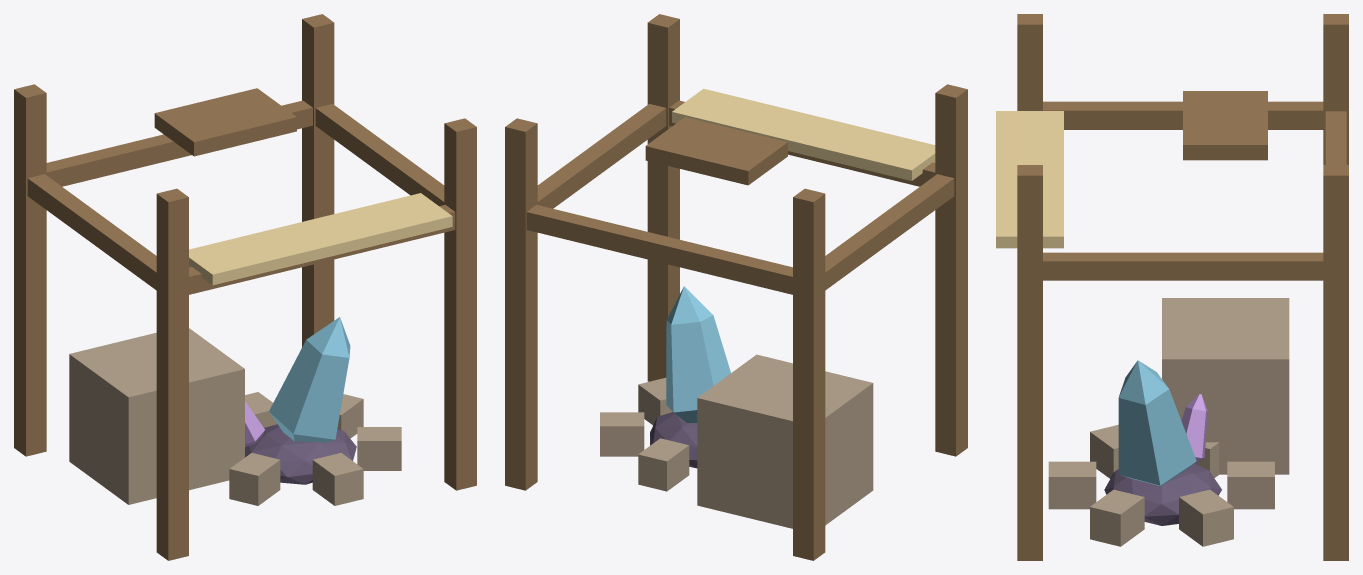
The model's file is cave-scaffold.glb.
3 renders of one model, left to right at view 1: azimuth 30°, elevation 25°; view 2: azimuth 150°, elevation 25°; view 3: azimuth 270°, elevation 25°, orthographic. The views are drawn at different scales.
Parts seen in each view (by area): view 1: cave-scaffold; view 2: cave-scaffold; view 3: cave-scaffold.
Part boxes in pixels (x1=…): cave-scaffold: x1=14, y1=14, x2=476, y2=560; cave-scaffold: x1=505, y1=14, x2=967, y2=560; cave-scaffold: x1=996, y1=14, x2=1348, y2=560.
Size of the model in its own units: 0.9 by 1 by 0.83.
